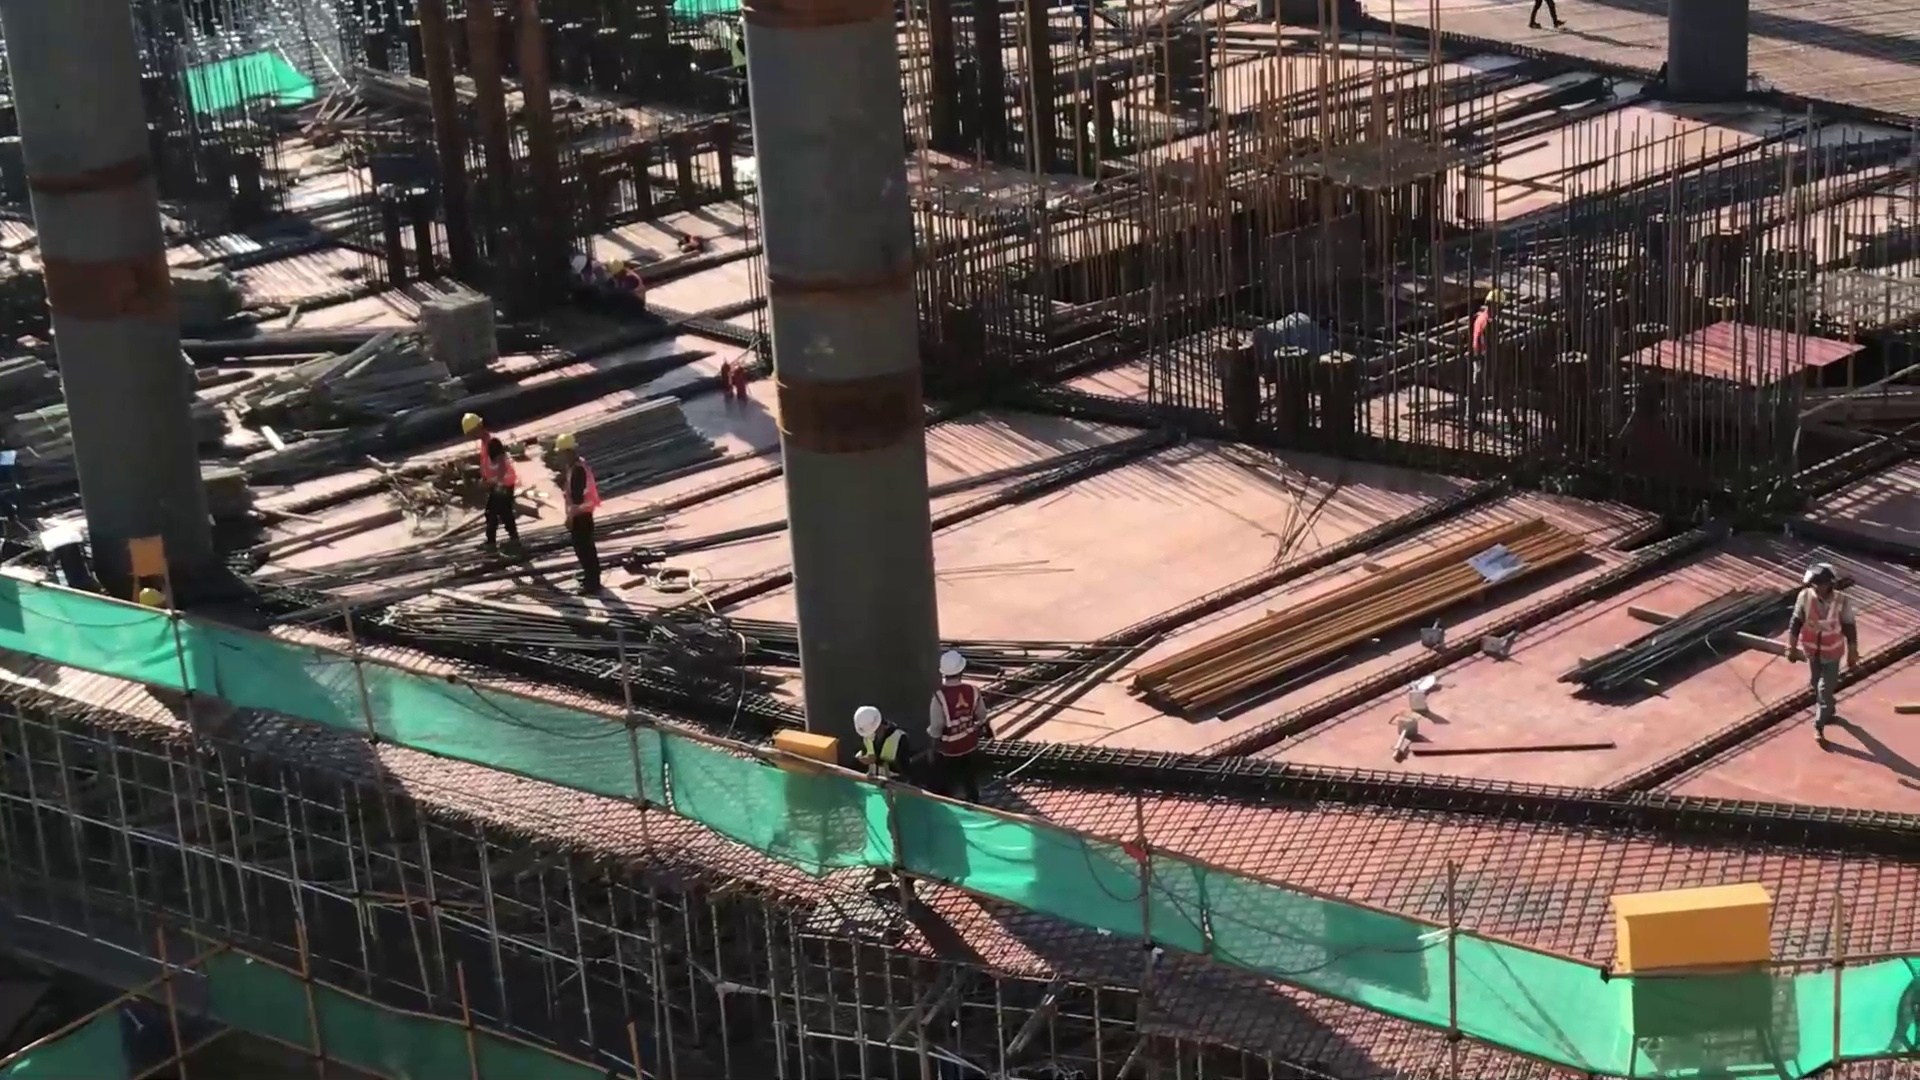ebox: (1608, 874, 1777, 974), (119, 523, 172, 598), (777, 725, 840, 770)
helmet: (853, 703, 887, 743), (1802, 559, 1840, 590), (937, 651, 968, 680), (458, 411, 486, 435), (552, 432, 582, 453), (606, 256, 623, 276)
person: (1782, 557, 1866, 761), (548, 430, 612, 604), (932, 650, 1006, 794), (455, 412, 526, 545), (848, 704, 912, 790), (607, 256, 655, 315)
vest: (1799, 587, 1851, 666), (933, 680, 983, 759), (560, 459, 602, 519), (480, 439, 524, 485), (860, 733, 907, 775), (620, 268, 648, 308)
